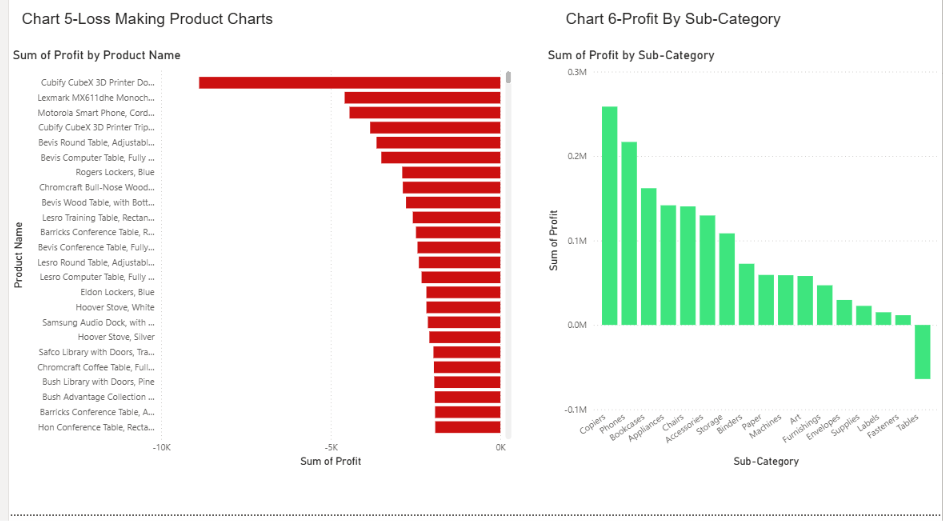

The dashboard page shown, as its layout file describes it:
{"tool":"powerbi","page":{"name":"Page 3","canvas":[1280,720],"ordinal":2},"visuals":[{"type":"clusteredBarChart","fields":{"Category":["Retail_Cleaned_Data.Product Name"],"Y":["Sum(Retail_Cleaned_Data.Profit)"]},"box":[0,79.6,694.3,580.4],"z":0},{"type":"textbox","box":[12.3,23.3,455.6,45.3],"z":1},{"type":"textbox","box":[758.8,23.3,521.4,45.3],"z":2},{"type":"clusteredColumnChart","fields":{"Y":["Sum(Retail_Cleaned_Data.Profit)"],"Category":["Retail_Cleaned_Data.Sub-Category"]},"box":[734.1,79.6,546.1,580.4],"z":3}]}

Visuals, with their boxes in screenshot pixels (x1, y1, x2, y2), scaled from the page's 1280x720 canvas onto the 943x521 screenshot:
clusteredBarChart - Retail_Cleaned_Data.Product Name x Sum(Retail_Cleaned_Data.Profit): region(0, 58, 512, 478)
textbox: region(9, 17, 345, 50)
textbox: region(559, 17, 942, 50)
clusteredColumnChart - Sum(Retail_Cleaned_Data.Profit) x Retail_Cleaned_Data.Sub-Category: region(541, 58, 942, 478)
